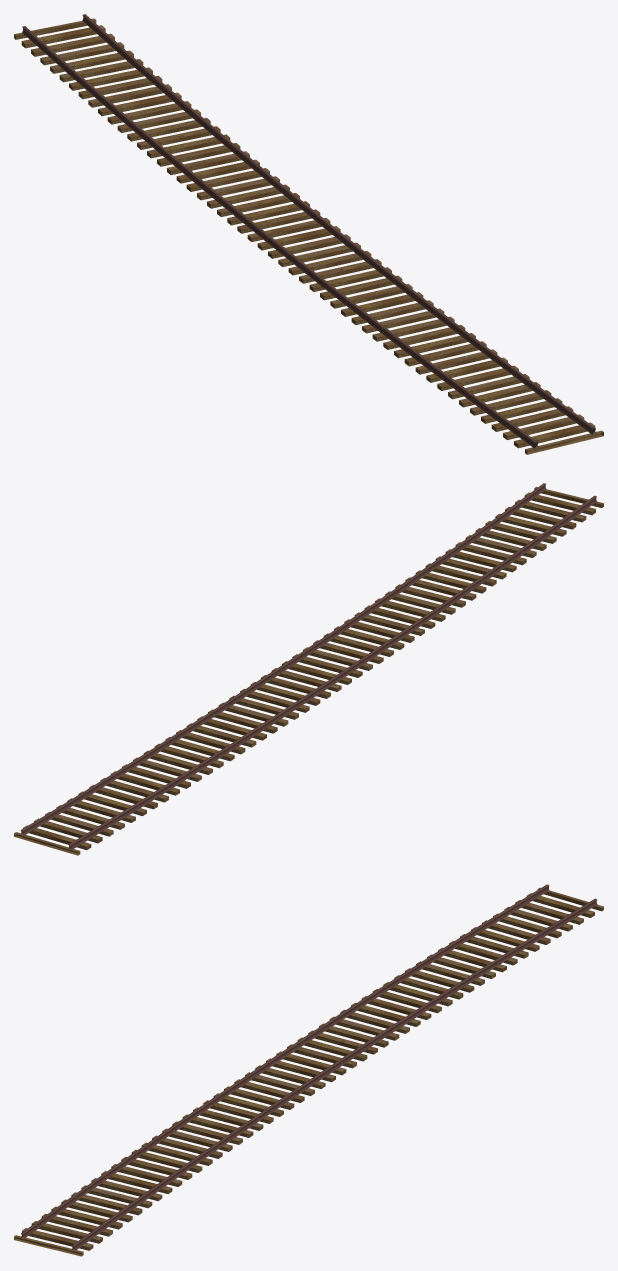
Rendered from rail_004.fbx.
3 renders of one model, top to bottom at view 1: azimuth 30°, elevation 25°; view 2: azimuth 150°, elevation 25°; view 3: azimuth 330°, elevation 25°, orthographic. The views are drawn at different scales.
Parts seen in each view (by area): view 1: main; view 2: main; view 3: main.
Boxes of the visible parts, x1,y1,x2,y2 form: main: (14,14,603,454); main: (14,483,603,855); main: (14,884,603,1256).
Bounding box in the file's own units: 617 × 50 × 5011.
